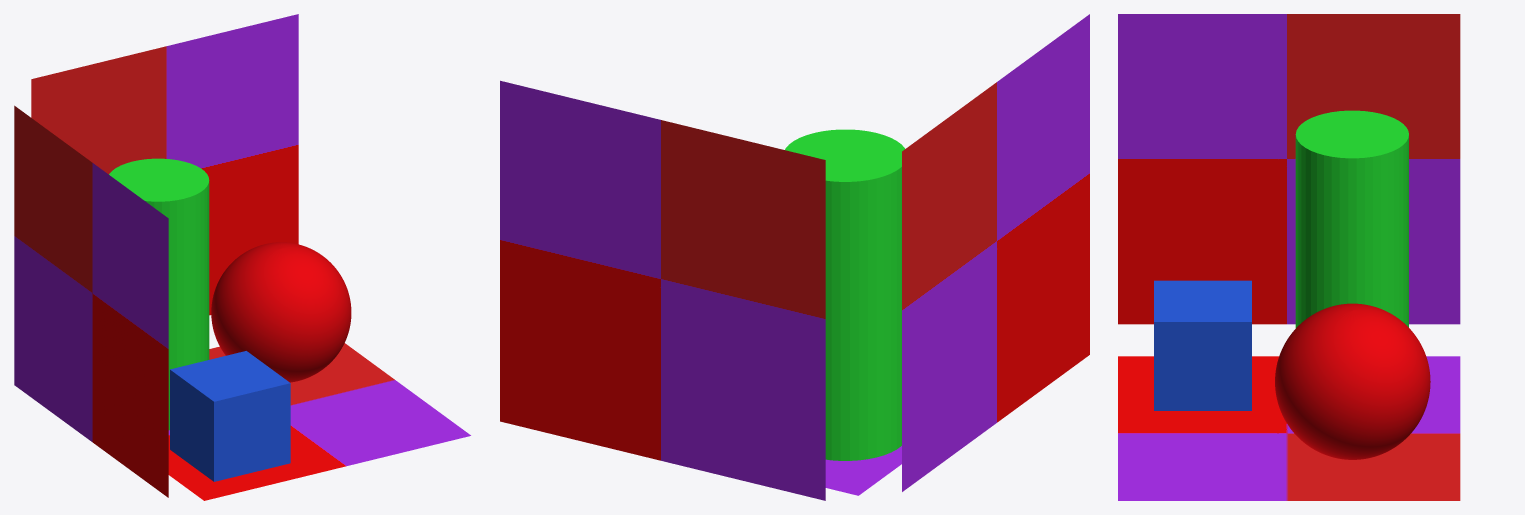
3 views of the same model, side by side, from view 1: azimuth 30°, elevation 25°; view 2: azimuth 150°, elevation 25°; view 3: azimuth 270°, elevation 25° (orthographic). The views are drawn at different scales.
Visible parts, largest first — view 1: PlaneYZ, PlaneXZ, PlaneXY, Sphere, Box, Cylinder; view 2: PlaneXZ, PlaneYZ, Cylinder, PlaneXY; view 3: PlaneYZ, PlaneXY, Cylinder, Sphere, Box.
Boxes of the visible parts, <box> form: PlaneYZ: <box>14,105,168,497</box>; PlaneXZ: <box>31,14,298,315</box>; PlaneXY: <box>168,343,470,500</box>; Sphere: <box>211,242,351,382</box>; Box: <box>170,351,290,481</box>; Cylinder: <box>109,158,209,430</box>; PlaneXZ: <box>500,80,825,500</box>; PlaneYZ: <box>902,14,1089,491</box>; Cylinder: <box>785,129,904,460</box>; PlaneXY: <box>825,446,901,495</box>; PlaneYZ: <box>1118,14,1460,324</box>; PlaneXY: <box>1118,356,1460,500</box>; Cylinder: <box>1295,110,1408,328</box>; Sphere: <box>1275,303,1430,459</box>; Box: <box>1154,280,1251,410</box>.
Size of the model in its own units: 2.3 by 2.08 by 2.29.
Materials: 4 (1 with a texture image).
